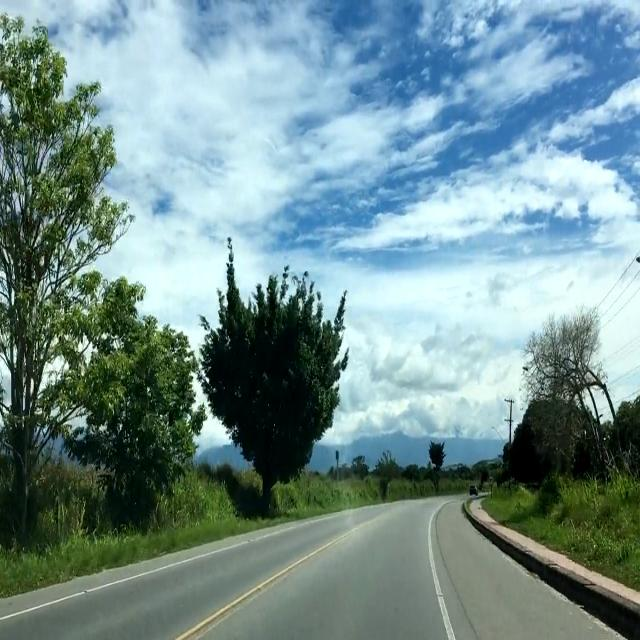lane: (1, 541, 249, 621), (173, 537, 338, 640), (428, 512, 456, 640)
road: (0, 498, 618, 640)
